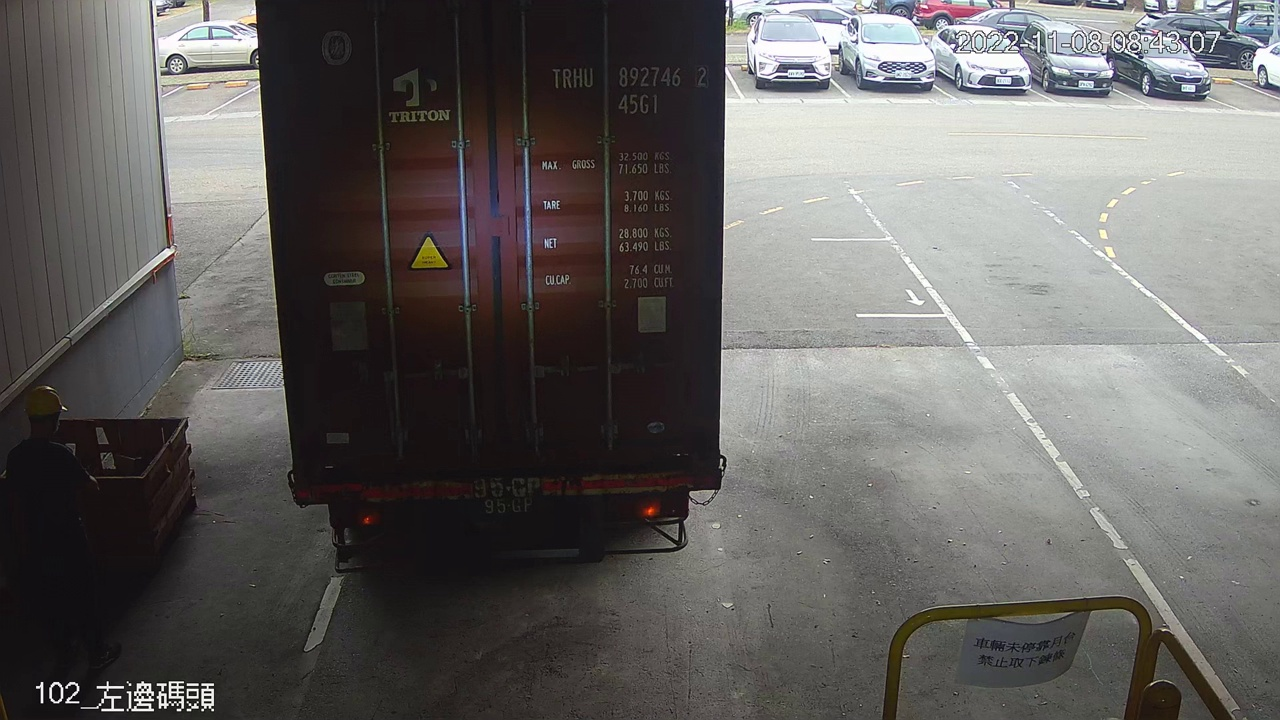container: (544, 57, 715, 122)
